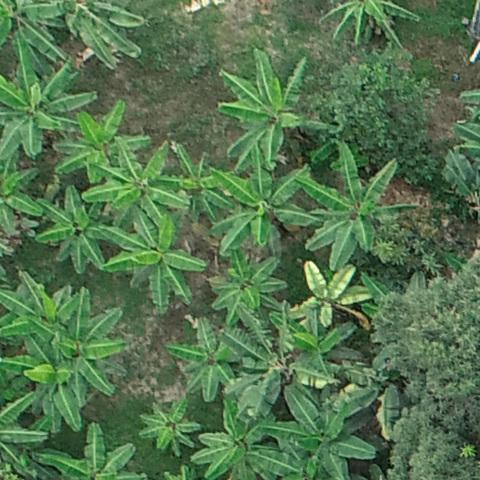Banana-plant: (299, 144, 417, 272), (212, 54, 332, 163), (266, 381, 384, 480), (212, 152, 310, 247), (3, 63, 89, 167), (110, 209, 201, 306), (84, 143, 186, 229), (37, 289, 124, 386), (38, 413, 151, 480), (164, 314, 250, 397), (291, 256, 374, 342), (2, 344, 96, 414), (40, 184, 113, 273), (197, 404, 278, 480), (162, 148, 237, 230), (213, 245, 289, 320), (46, 0, 144, 56), (321, 0, 422, 51), (137, 398, 207, 454)
